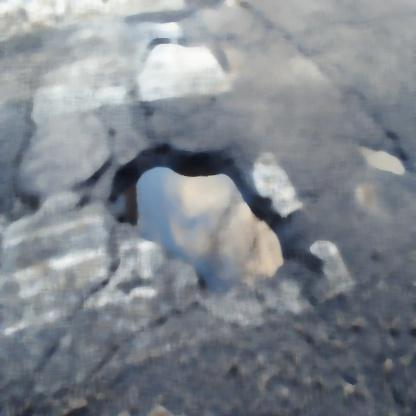Potholes: (123, 160, 280, 309)
